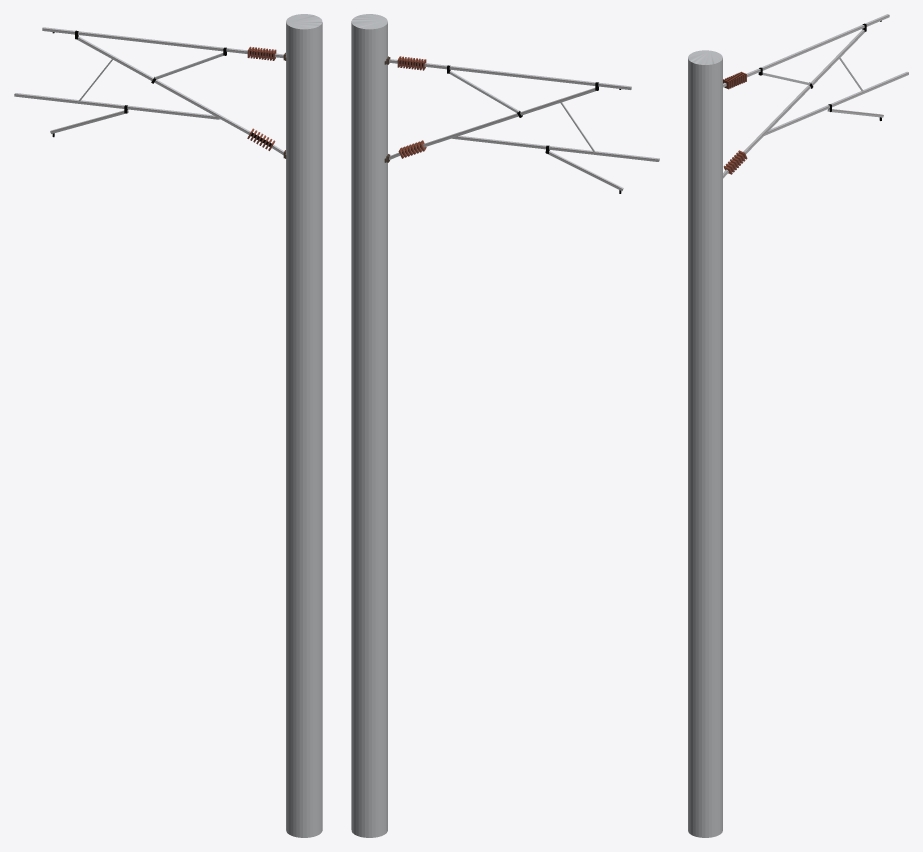
The model's file is 45d_catenary_circular.obj.
The picture shows the model from 3 angles, left to right: view 1: azimuth 30°, elevation 25°; view 2: azimuth 210°, elevation 25°; view 3: azimuth 270°, elevation 25°; orthographic projection. The views are drawn at different scales.
Parts seen in each view (by area): view 1: catenary.001; view 2: catenary.001; view 3: catenary.001.
Part boxes in pixels (<box>): catenary.001: <box>14,14,322,837</box>; catenary.001: <box>351,14,659,837</box>; catenary.001: <box>688,14,908,837</box>.
Bounding box in the file's own units: 2.52 × 9.73 × 2.52.
Materials: 3 (3 with a texture image).
